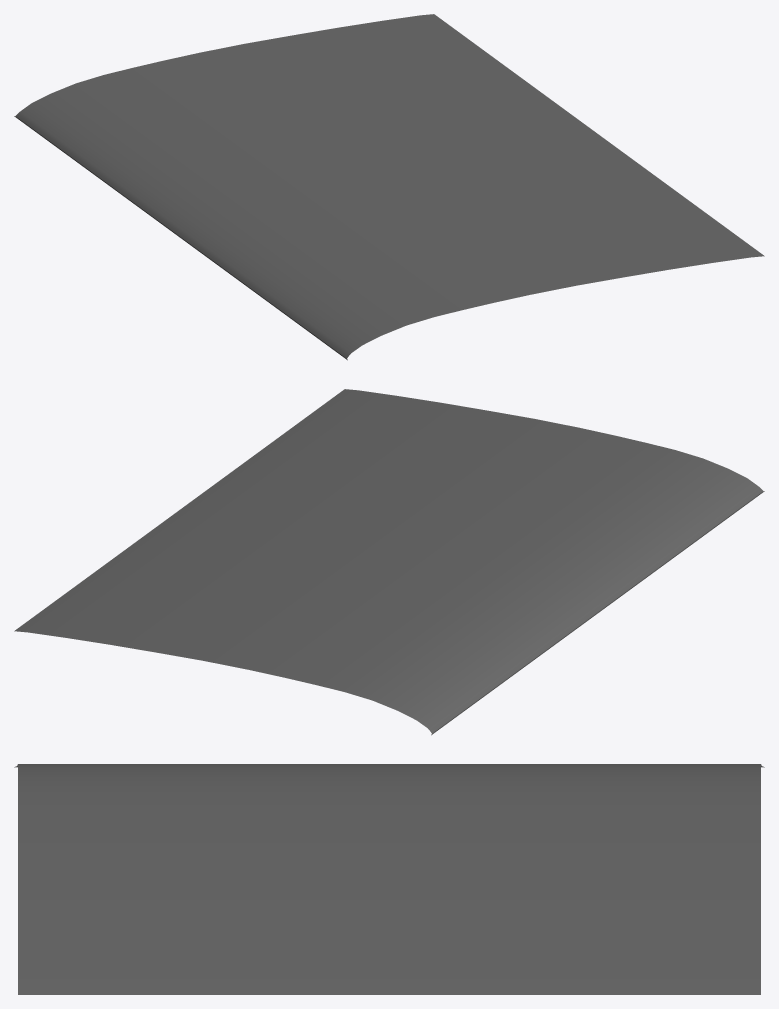
The model's file is Book_29_book_29_0.obj.
The picture shows the model from 3 angles, top to bottom: view 1: azimuth 30°, elevation 25°; view 2: azimuth 150°, elevation 25°; view 3: azimuth 270°, elevation 25°; orthographic projection. The views are drawn at different scales.
Bounding box in the file's own units: 0.1559 × 0.00752 × 0.2158.
1 material, 1 textured.
